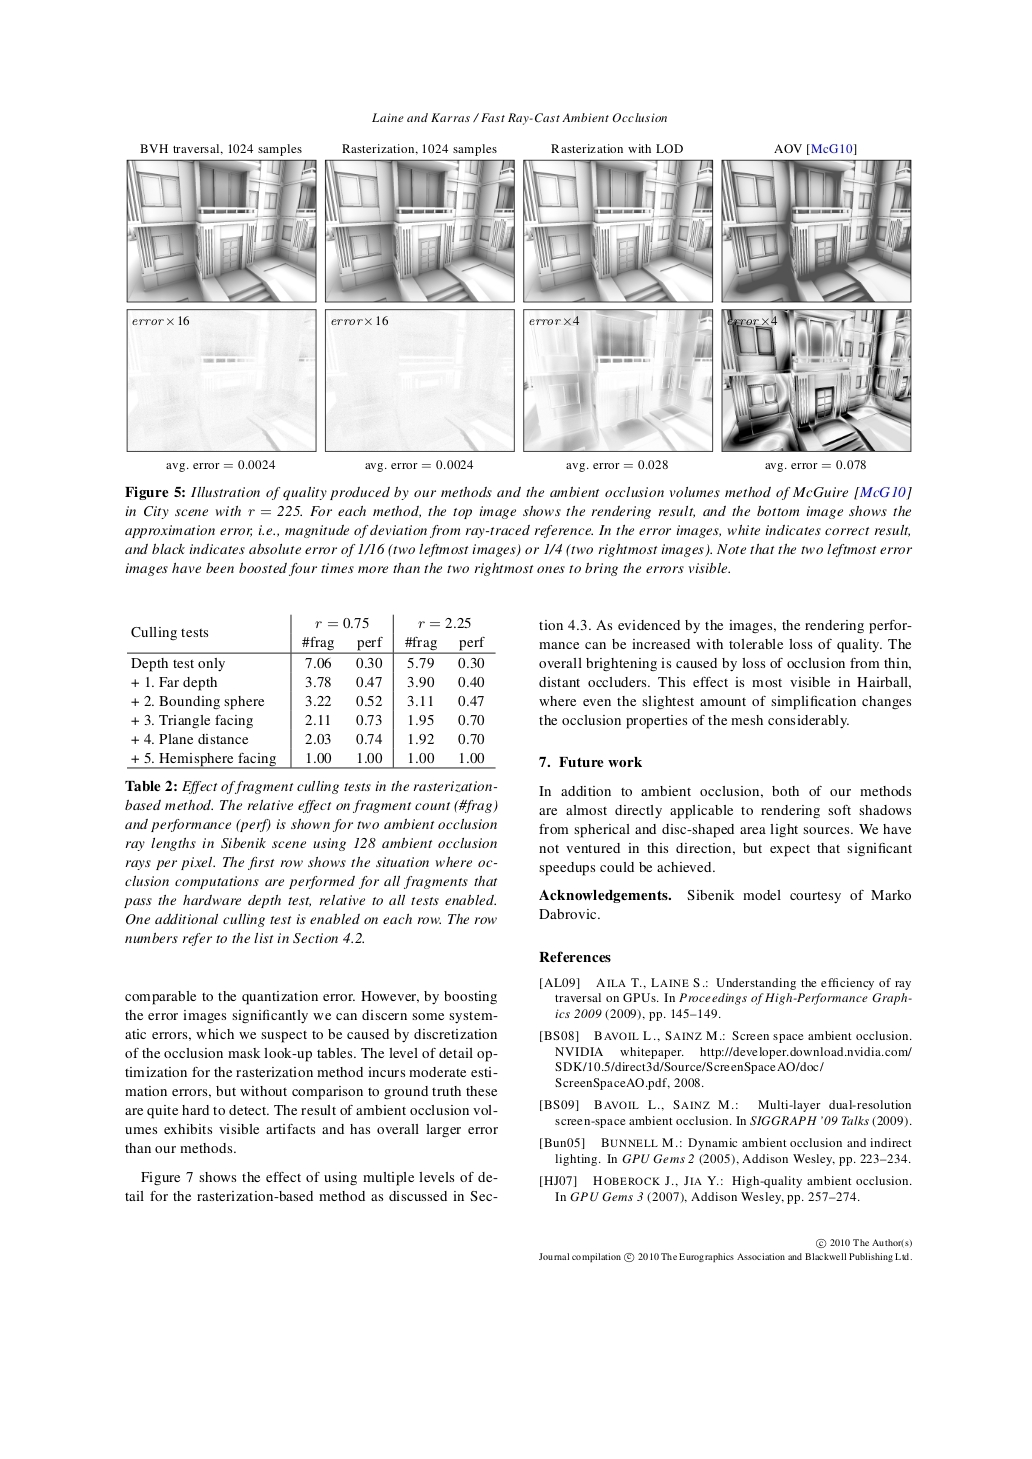Table: (127, 613, 495, 769)
figure: (126, 144, 324, 303), (523, 144, 713, 303), (722, 144, 911, 303), (325, 144, 514, 303), (126, 309, 316, 451), (324, 309, 514, 451), (523, 309, 713, 451), (722, 309, 911, 451)
